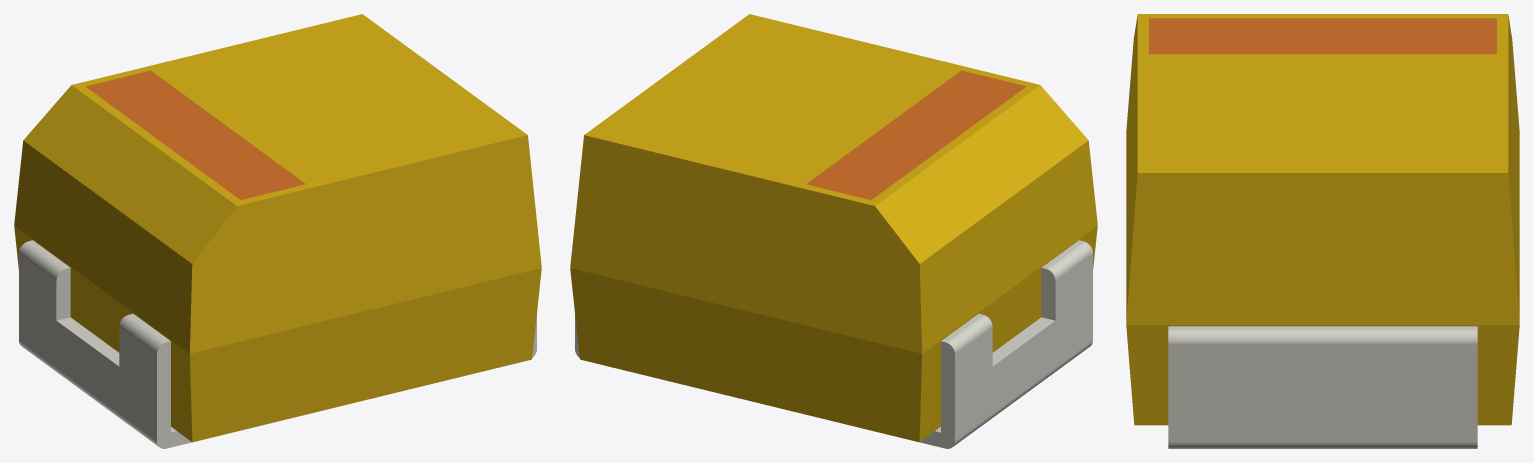
File: CP_EIA-3528-21_Kemet-B.glb
The picture shows the model from 3 angles, left to right: view 1: azimuth 30°, elevation 25°; view 2: azimuth 150°, elevation 25°; view 3: azimuth 270°, elevation 25°; orthographic projection. The views are drawn at different scales.
Parts seen in each view (by area): view 1: =>[0:1:1:3]; view 2: =>[0:1:1:3]; view 3: =>[0:1:1:3].
Boxes of the visible parts, x1=… form: =>[0:1:1:3]: x1=14, y1=14, x2=541, y2=448; =>[0:1:1:3]: x1=570, y1=14, x2=1097, y2=448; =>[0:1:1:3]: x1=1126, y1=14, x2=1519, y2=448.
Size of the model in its own units: 0.0035 by 0.0021 by 0.0028.
